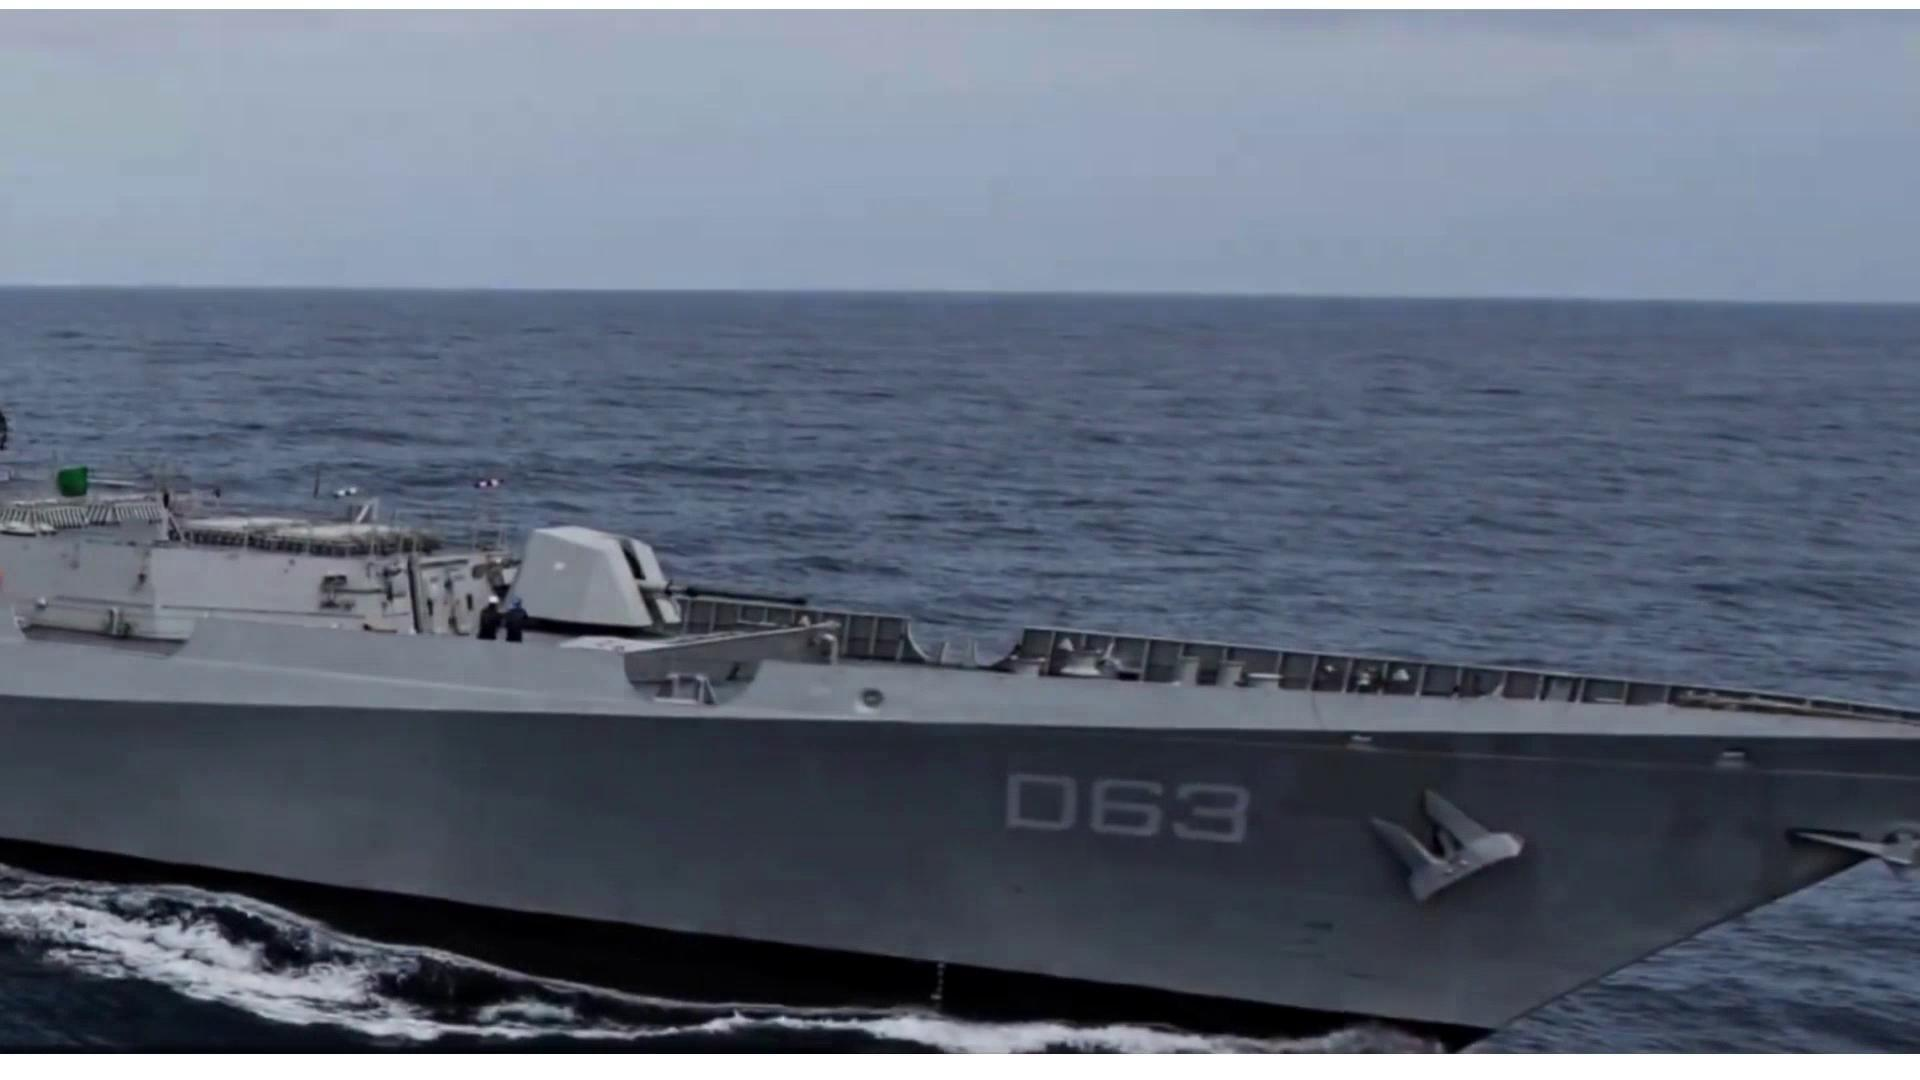OCR: (994, 757, 1262, 860)
